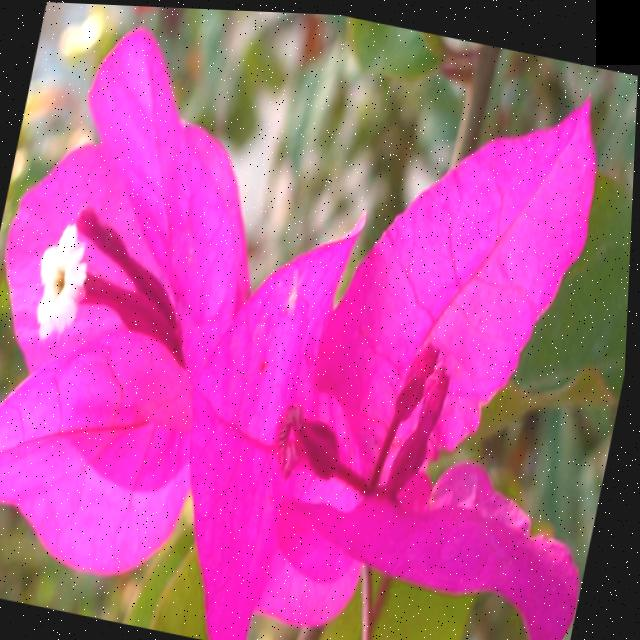bougainvillea: (0, 13, 640, 640)
